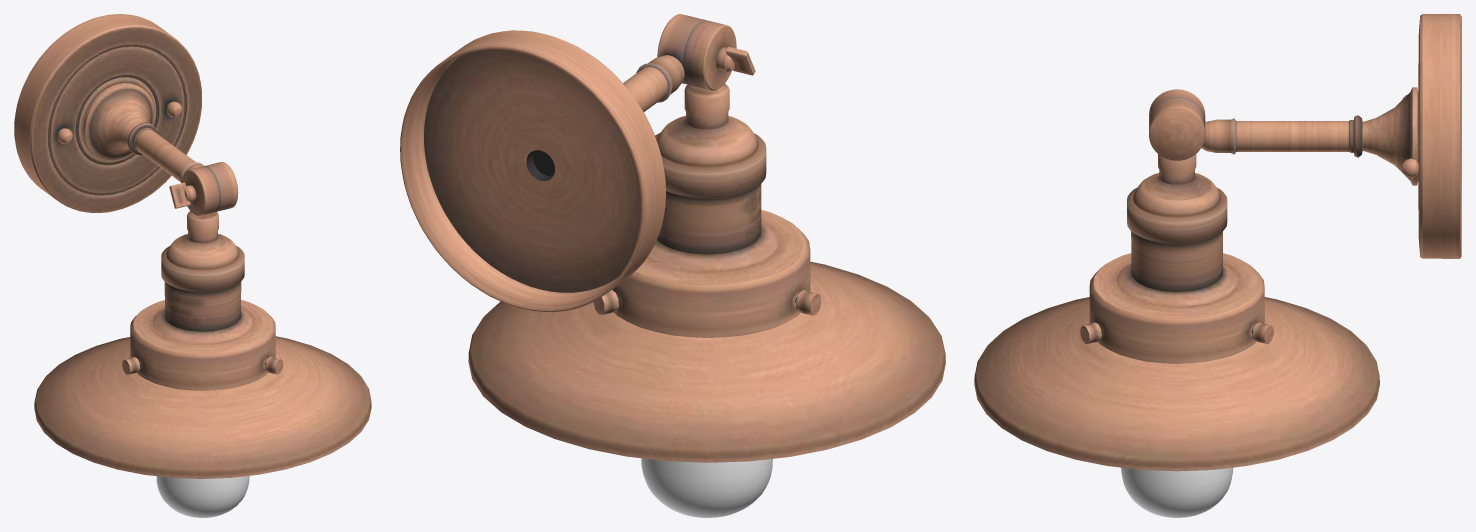
The model's file is barnlamp.fbx.
3 renders of one model, left to right at view 1: azimuth 30°, elevation 25°; view 2: azimuth 150°, elevation 25°; view 3: azimuth 270°, elevation 25°, orthographic. The views are drawn at different scales.
Visible parts, largest first — view 1: Lamp Metal, Lamp Glass; view 2: Lamp Metal, Lamp Glass; view 3: Lamp Metal, Lamp Glass.
Boxes of the visible parts, box(x1,y1,x2,y2) form: Lamp Metal: box(14, 14, 371, 478); Lamp Glass: box(156, 476, 249, 517); Lamp Metal: box(400, 14, 945, 462); Lamp Glass: box(641, 458, 772, 517); Lamp Metal: box(974, 14, 1461, 471); Lamp Glass: box(1121, 467, 1233, 517).
Bounding box in the file's own units: 0.1908 × 0.2552 × 0.2265.
Materials: 3 (1 with a texture image).
